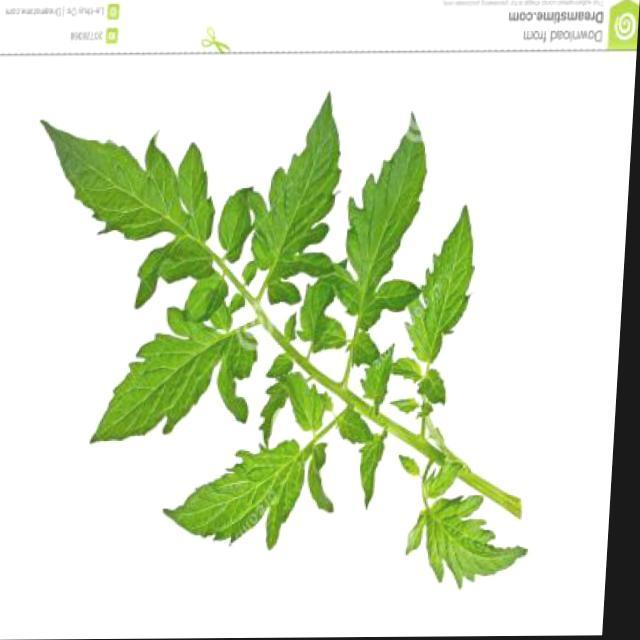Tomato bacterial spot leaf: (18, 106, 209, 256), (324, 114, 444, 343), (244, 86, 350, 318), (82, 309, 248, 446), (148, 427, 342, 544), (398, 468, 544, 614), (392, 216, 496, 378)
